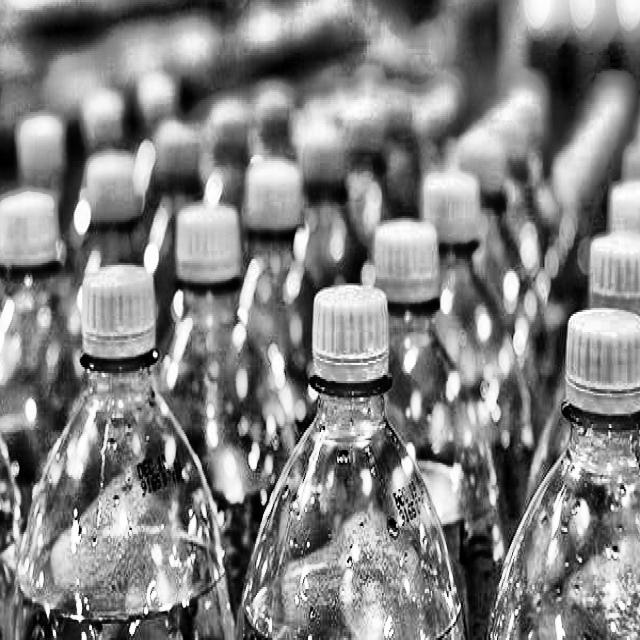bottle: (4, 189, 234, 640), (229, 248, 473, 640), (482, 261, 640, 640), (0, 120, 87, 544)
